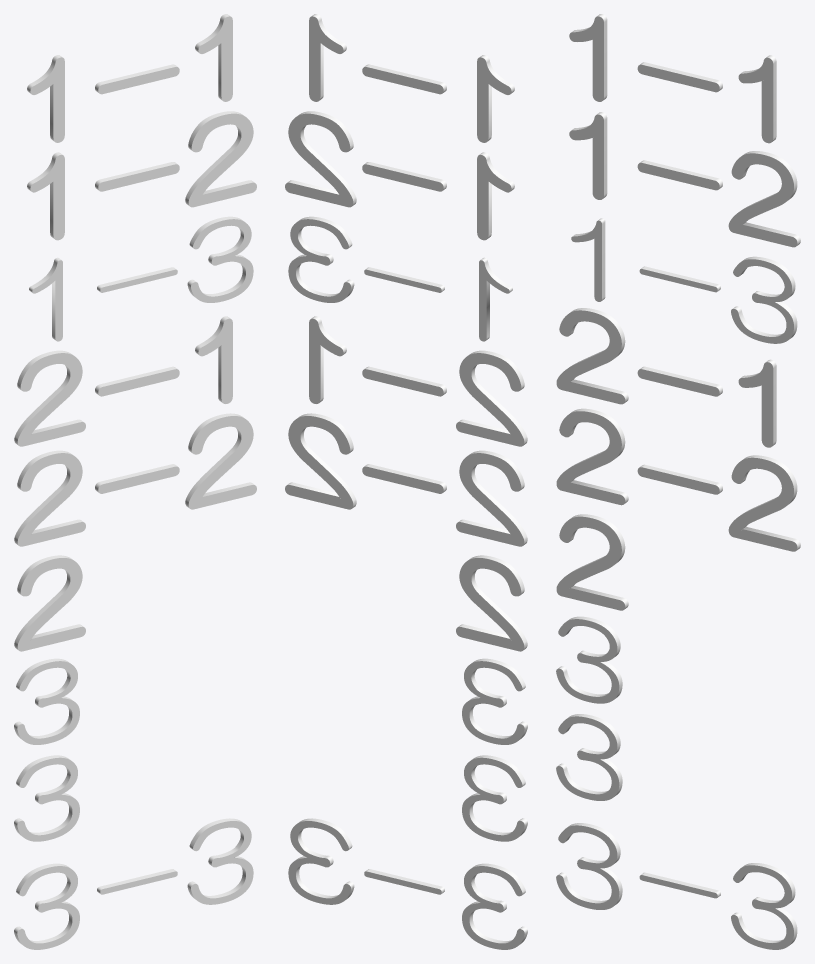
The model's file is Stage_number.obj.
3 views of the same model, side by side, from view 1: azimuth 30°, elevation 25°; view 2: azimuth 150°, elevation 25°; view 3: azimuth 330°, elevation 25° (orthographic).
Parts seen in each view (by area): view 1: テキスト.004, テキスト.009, テキスト.001, テキスト.014, テキスト, テキスト.002, テキスト.011, テキスト.013, テキスト.012; view 2: テキスト.004, テキスト.009, テキスト.001, テキスト.014, テキスト, テキスト.002, テキスト.011, テキスト.013, テキスト.012; view 3: テキスト.004, テキスト.009, テキスト.001, テキスト.014, テキスト, テキスト.002, テキスト.011, テキスト.013, テキスト.012.
Boxes of the visible parts, x1,y1,x2,y2 form: テキスト.004: (14, 413, 256, 546); テキスト.009: (14, 316, 232, 446); テキスト.001: (27, 111, 256, 240); テキスト.014: (14, 818, 253, 949); テキスト: (27, 14, 232, 142); テキスト.002: (29, 216, 253, 341); テキスト.011: (14, 555, 85, 651); テキスト.013: (14, 755, 79, 841); テキスト.012: (14, 658, 79, 744); テキスト.004: (285, 413, 527, 546); テキスト.009: (309, 316, 527, 446); テキスト.001: (285, 111, 514, 240); テキスト.014: (288, 818, 527, 949); テキスト: (309, 14, 514, 142); テキスト.002: (288, 216, 512, 341); テキスト.011: (456, 555, 527, 651); テキスト.013: (462, 755, 527, 841); テキスト.012: (462, 658, 527, 744); テキスト.004: (556, 408, 800, 551); テキスト.009: (556, 308, 776, 447); テキスト.001: (569, 112, 800, 247); テキスト.014: (556, 823, 797, 949); テキスト: (569, 14, 776, 143); テキスト.002: (571, 218, 797, 343); テキスト.011: (556, 514, 628, 610); テキスト.013: (556, 714, 622, 800); テキスト.012: (556, 616, 622, 703).
Bounding box in the file's own units: 2.49 × 8.83 × 0.06.
9 materials, 9 textured.
